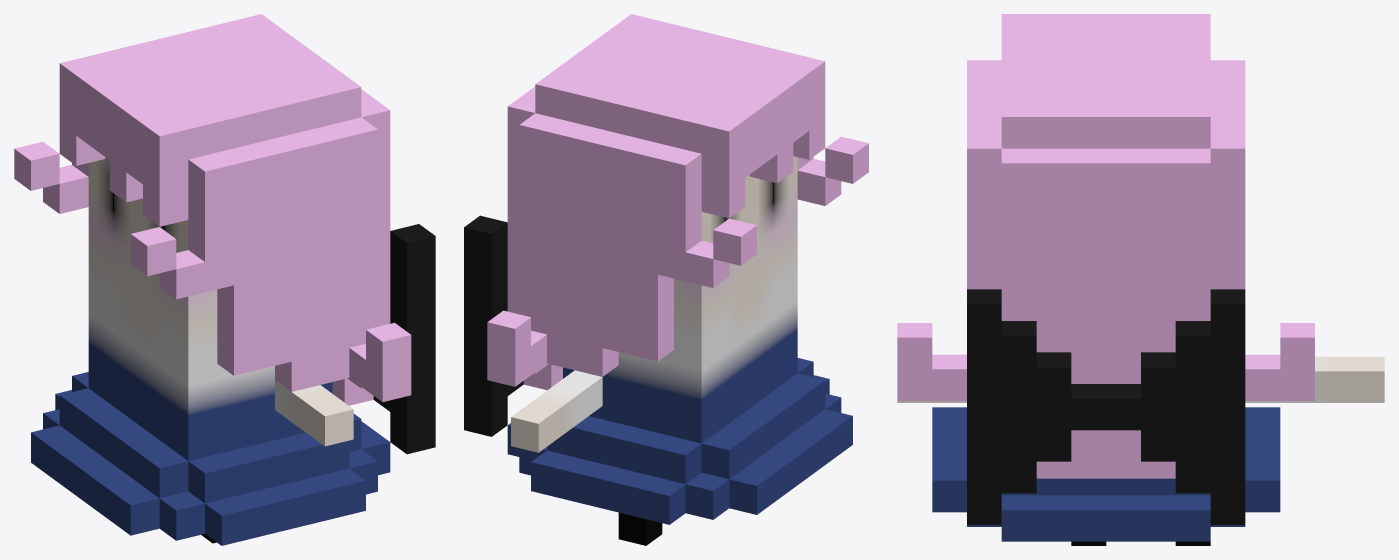
File: character.fbx
3 views of the same model, side by side, from view 1: azimuth 30°, elevation 25°; view 2: azimuth 150°, elevation 25°; view 3: azimuth 270°, elevation 25° (orthographic). The views are drawn at different scales.
Visible parts, largest first — view 1: Matrix_1, Matrix, Matrix_6, Matrix_4; view 2: Matrix_1, Matrix, Matrix_6, Matrix_5, Matrix_2; view 3: Matrix_1, Matrix_6, Matrix, Matrix_5.
Boxes of the visible parts, x1,y1,x2,y2 form: Matrix_1: (14, 14, 411, 405); Matrix: (31, 157, 390, 545); Matrix_6: (373, 224, 435, 454); Matrix_4: (275, 380, 353, 446); Matrix_1: (487, 14, 868, 390); Matrix: (507, 156, 852, 524); Matrix_6: (464, 215, 523, 436); Matrix_5: (511, 370, 602, 452); Matrix_2: (618, 512, 662, 545); Matrix_1: (897, 14, 1314, 478); Matrix_6: (967, 289, 1245, 524); Matrix: (932, 407, 1280, 541); Matrix_5: (1245, 356, 1384, 402).
Bounding box in the file's own units: 10 × 15 × 14.
Materials: 1 (1 with a texture image).
